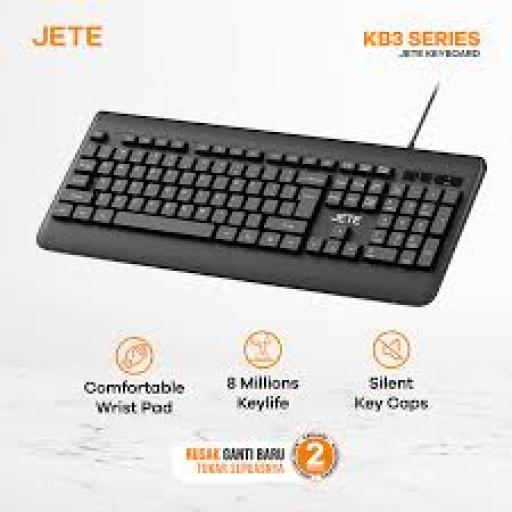KEYBOARD-2: (39, 112, 485, 303)
